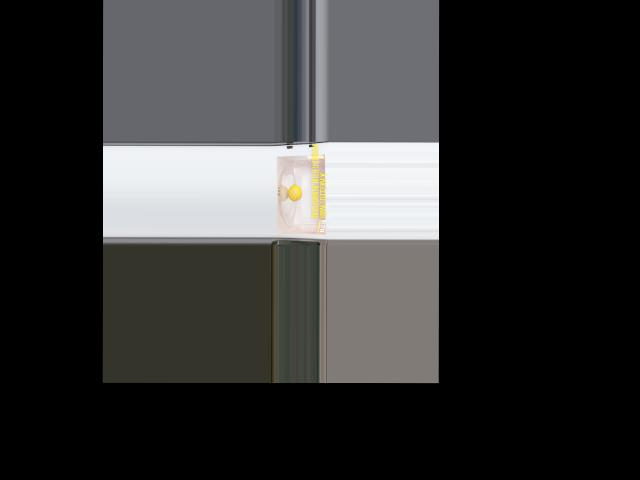lemon: (285, 176, 303, 202)
